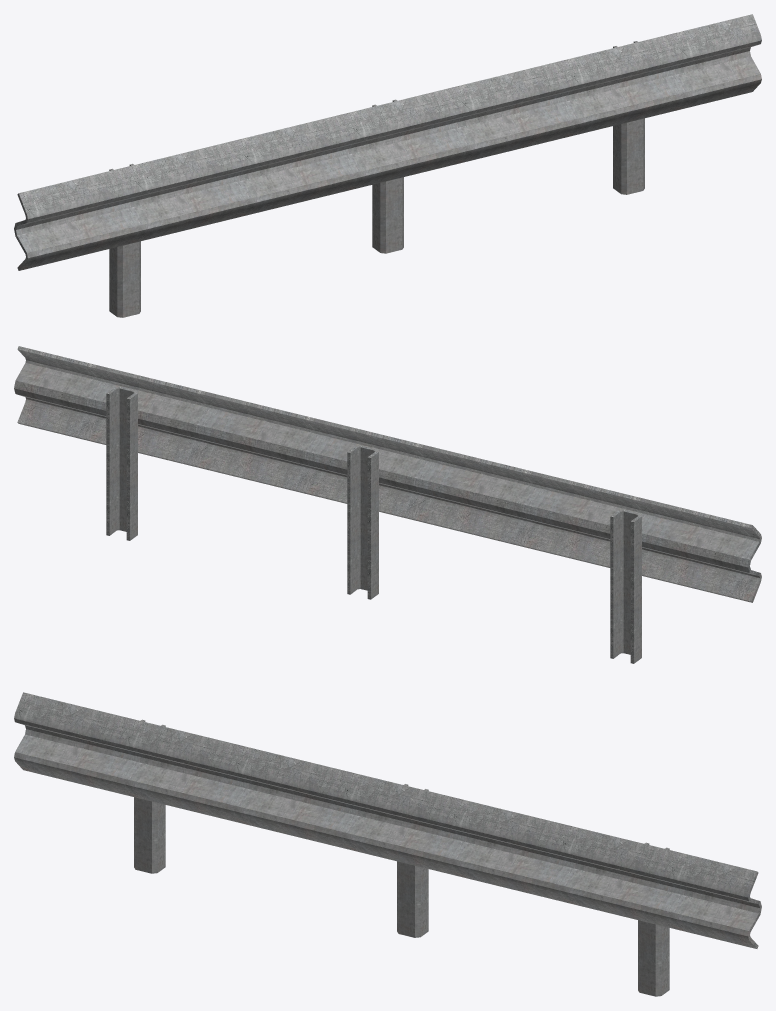
The model's file is curb-modular-short.glb.
3 views of the same model, one above another, from view 1: azimuth 30°, elevation 25°; view 2: azimuth 150°, elevation 25°; view 3: azimuth 330°, elevation 25° (orthographic).
Parts seen in each view (by area): view 1: Plane.003_18; view 2: Plane.003_18; view 3: Plane.003_18.
Part boxes in pixels (x1,y1,x2,y2): Plane.003_18: (14,14,761,317); Plane.003_18: (14,346,761,663); Plane.003_18: (14,692,761,996).
Bounding box in the file's own units: 1.14 × 0.2288 × 0.063.
Materials: 1 (1 with a texture image).
